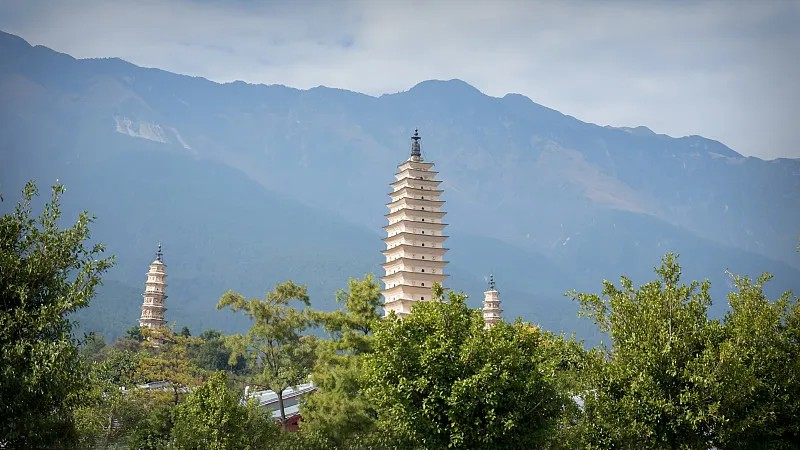ThreePagoda: (379, 128, 451, 317)
